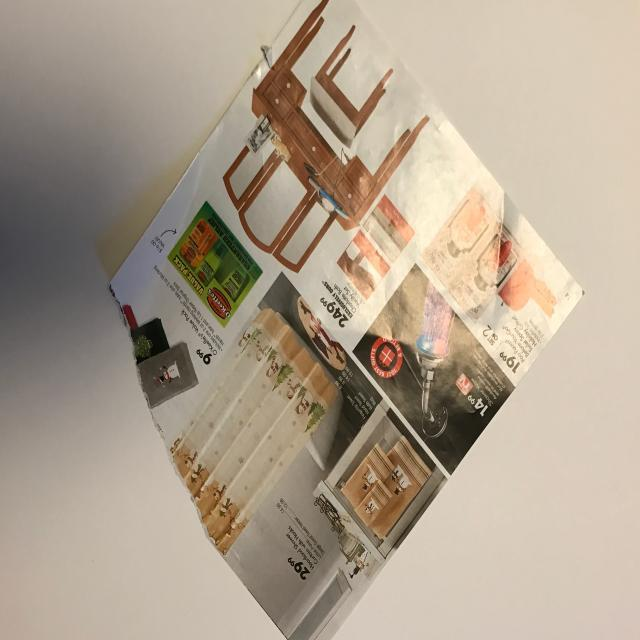paper: (110, 1, 584, 640)
